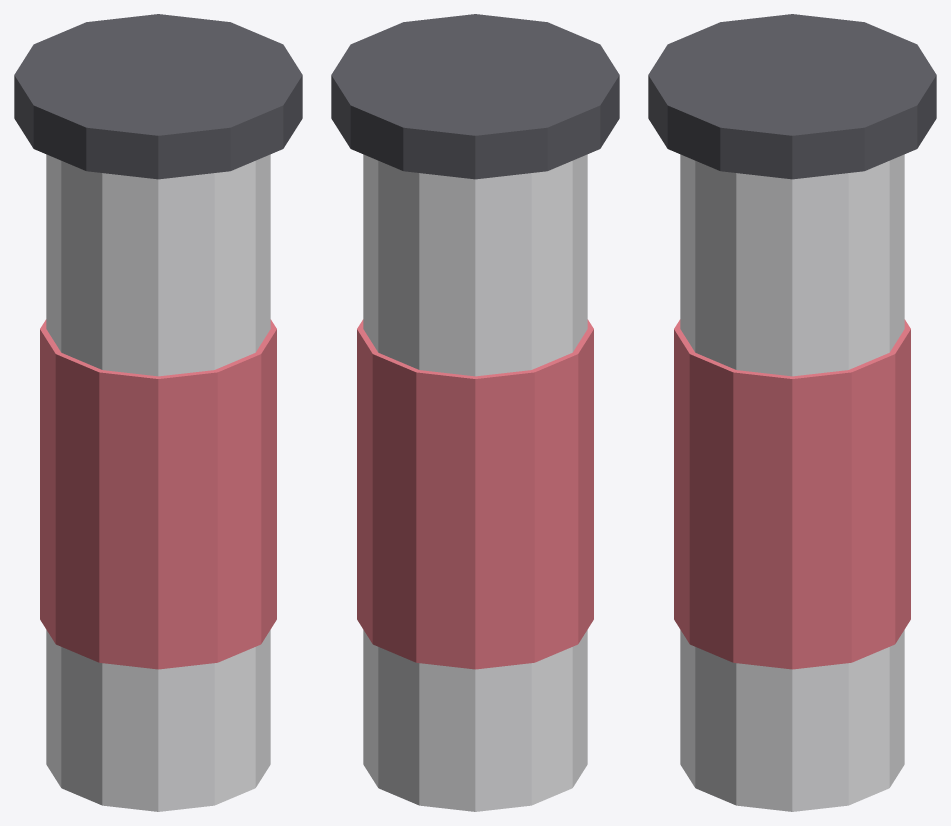
The model's file is Adrenaline.fbx.
3 renders of one model, left to right at view 1: azimuth 30°, elevation 25°; view 2: azimuth 150°, elevation 25°; view 3: azimuth 270°, elevation 25°, orthographic.
Parts seen in each view (by area): view 1: Item_Adrenaline, Cylinder, Cylinder.001; view 2: Item_Adrenaline, Cylinder, Cylinder.001; view 3: Item_Adrenaline, Cylinder, Cylinder.001.
Boxes of the visible parts, x1,y1,x2,y2 form: Item_Adrenaline: [46, 154, 270, 811]; Cylinder: [40, 319, 276, 669]; Cylinder.001: [14, 14, 302, 179]; Item_Adrenaline: [363, 154, 587, 811]; Cylinder: [357, 319, 593, 669]; Cylinder.001: [331, 14, 619, 179]; Item_Adrenaline: [680, 154, 904, 811]; Cylinder: [674, 319, 910, 669]; Cylinder.001: [648, 14, 936, 179].
Size of the model in its own units: 0.09 by 0.09 by 0.2375.
